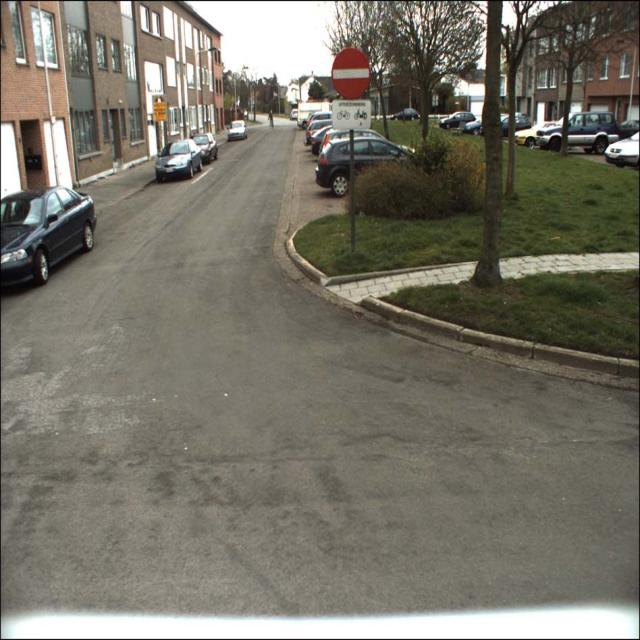girisyok: (331, 47, 372, 99)
